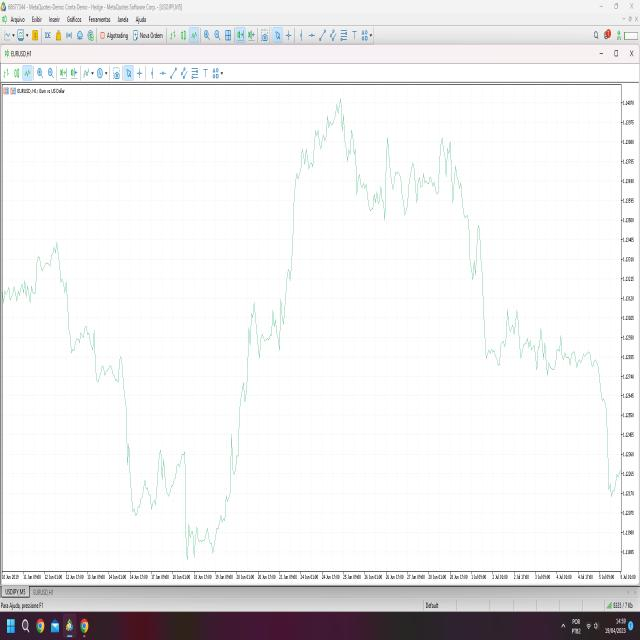bandeira_alta: (232, 287, 288, 433)
bandeira_baixa: (454, 138, 603, 394), (175, 422, 208, 570), (475, 214, 503, 378)
fundo_duplo: (120, 432, 166, 531)
topo_duplo: (497, 301, 523, 377)
